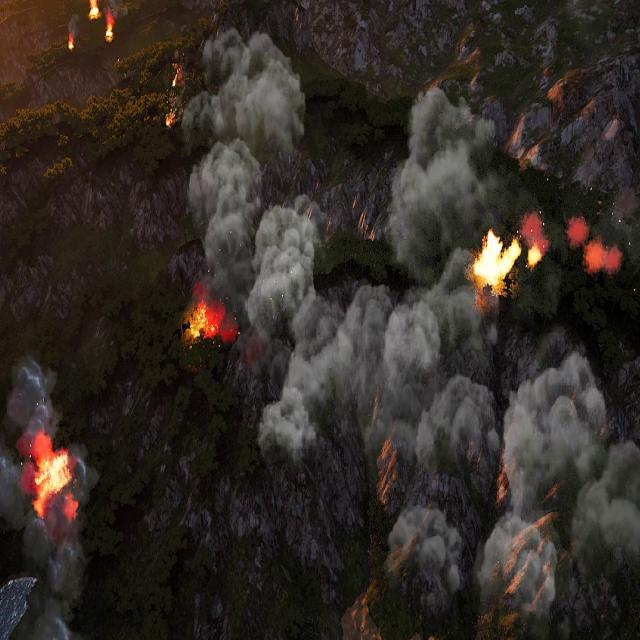fire: (21, 434, 73, 518), (474, 232, 520, 291), (184, 296, 227, 344), (106, 19, 116, 42), (91, 0, 100, 21), (170, 70, 181, 87), (66, 38, 76, 55), (165, 114, 175, 128)
smoke: (183, 26, 640, 640), (0, 357, 110, 640)
